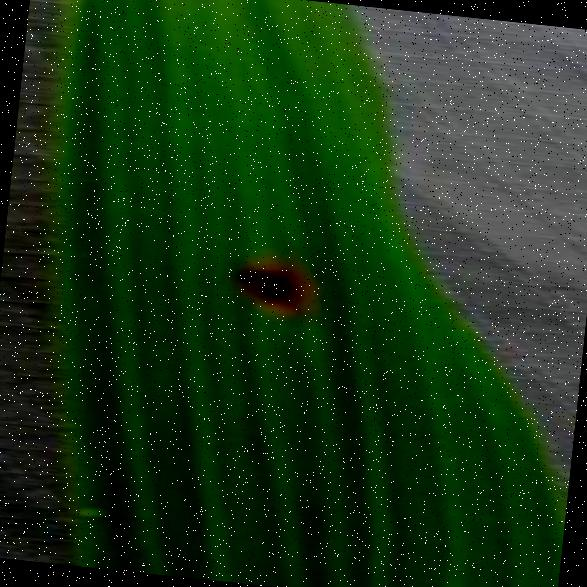Brown_Spot: (211, 242, 321, 323)
